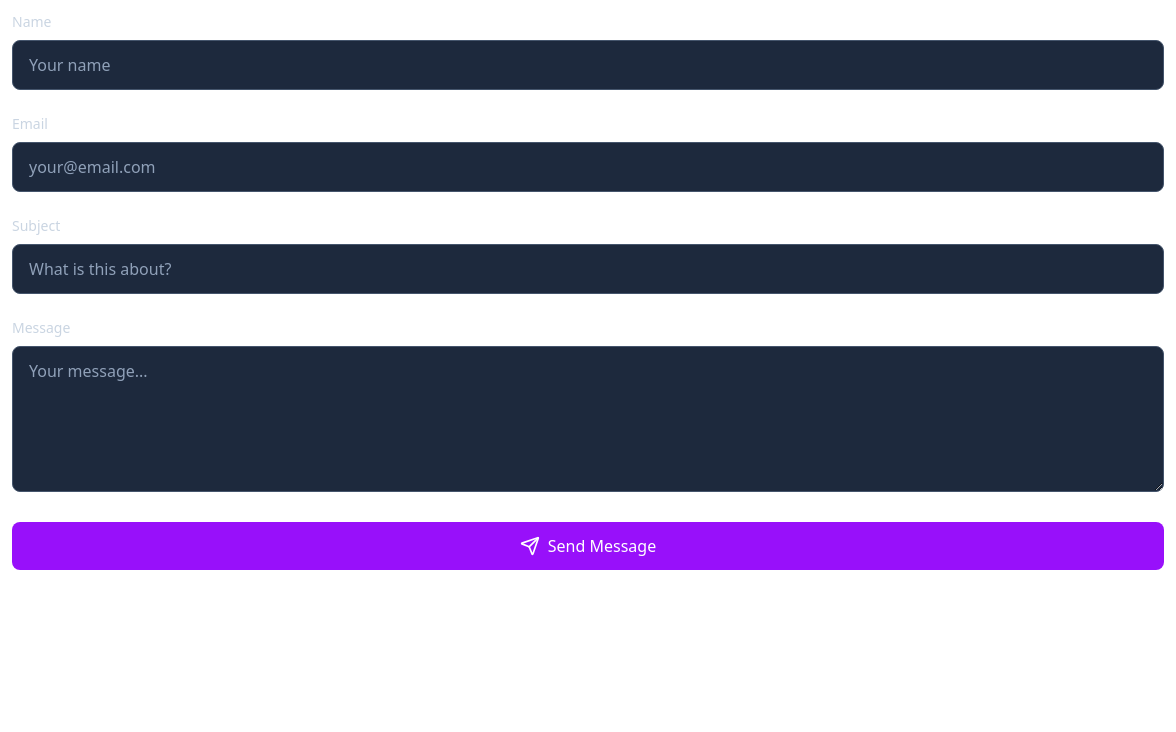
Test: ContactForm › submit handler › shows loading state when submitting
Fill form
Type "Test User" into the field named "name" at (588, 65), box top-left (12, 40), bottom-right (1164, 90)
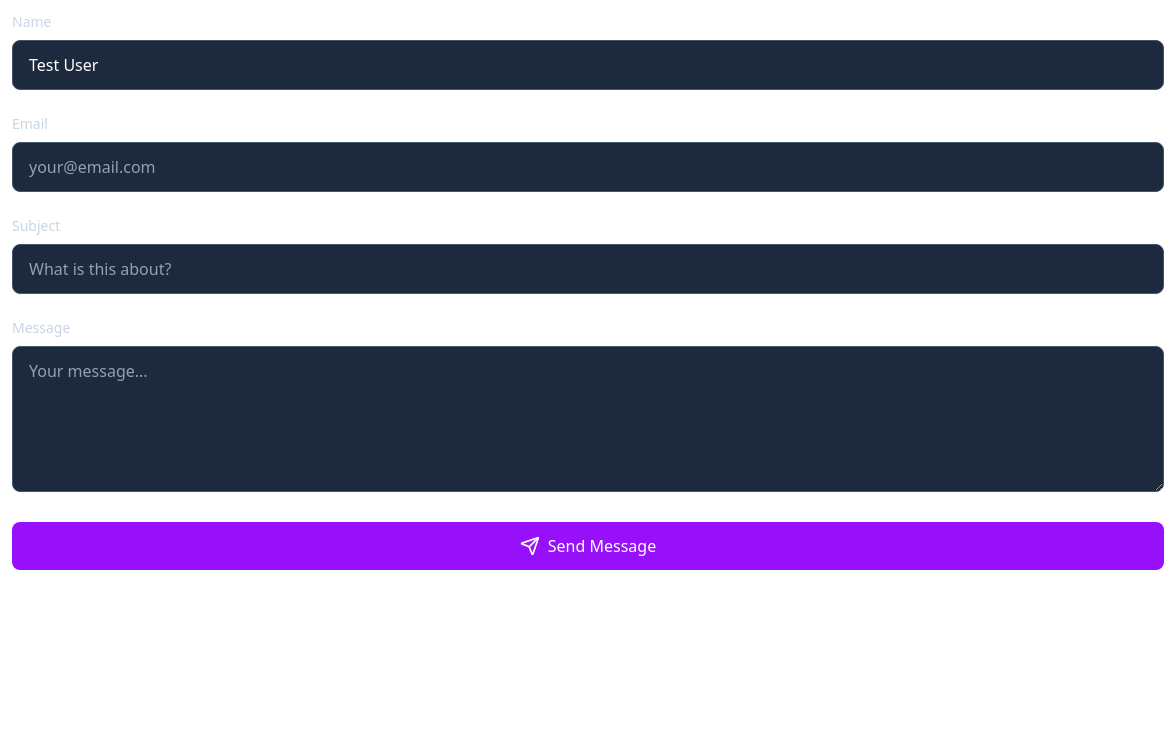
Type "test@example.com" into the field labelled "Email" at (588, 167), box top-left (12, 142), bottom-right (1164, 192)
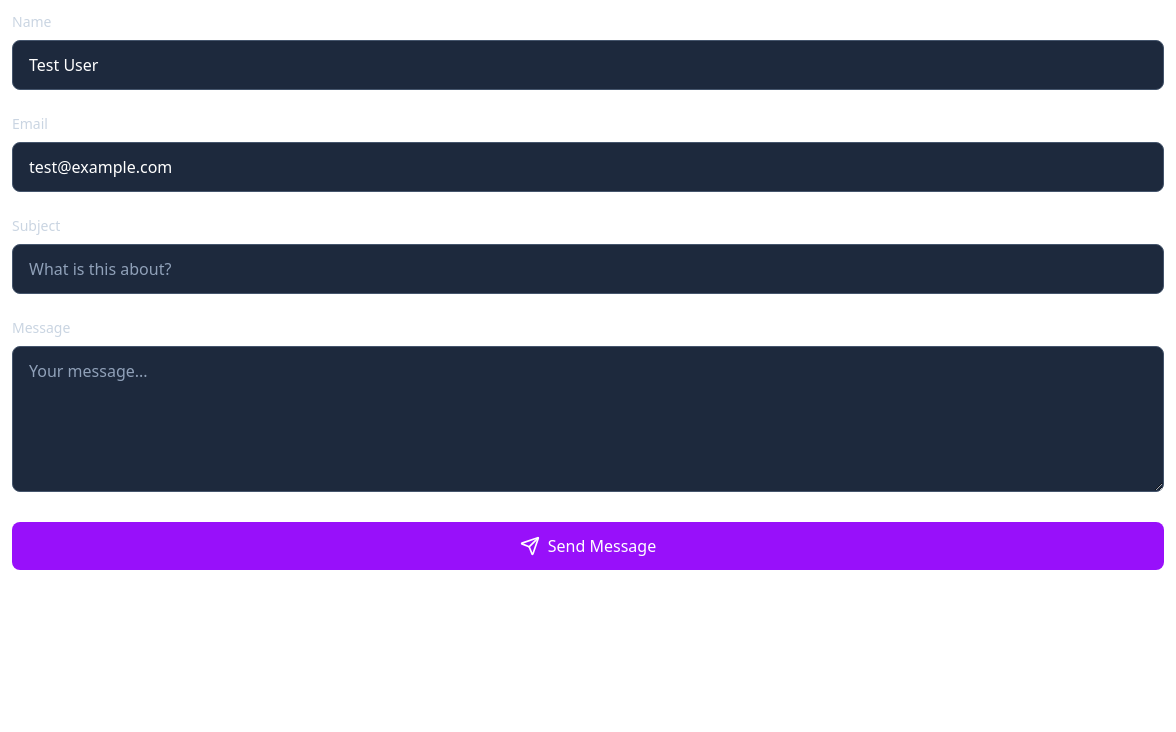
Type "Test Subject" into the field named "subject" at (588, 269), box top-left (12, 244), bottom-right (1164, 294)
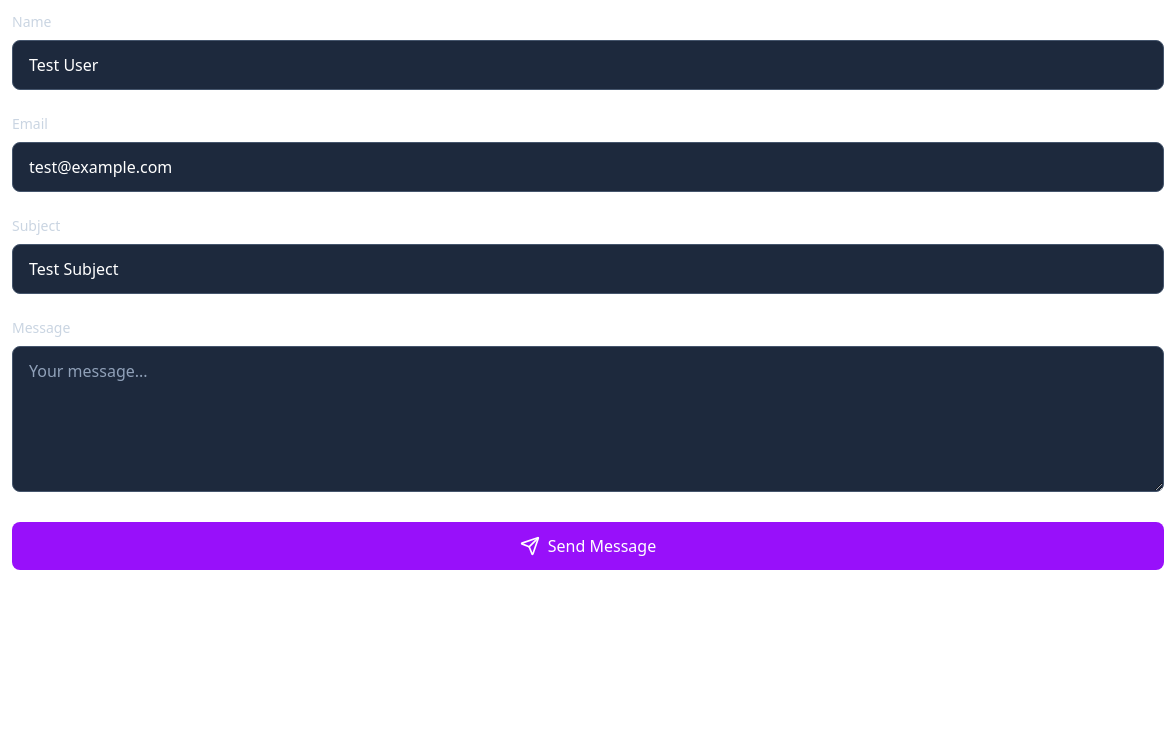
Type "Test message content" into the text box labelled "Message" at (588, 419), box top-left (12, 346), bottom-right (1164, 492)
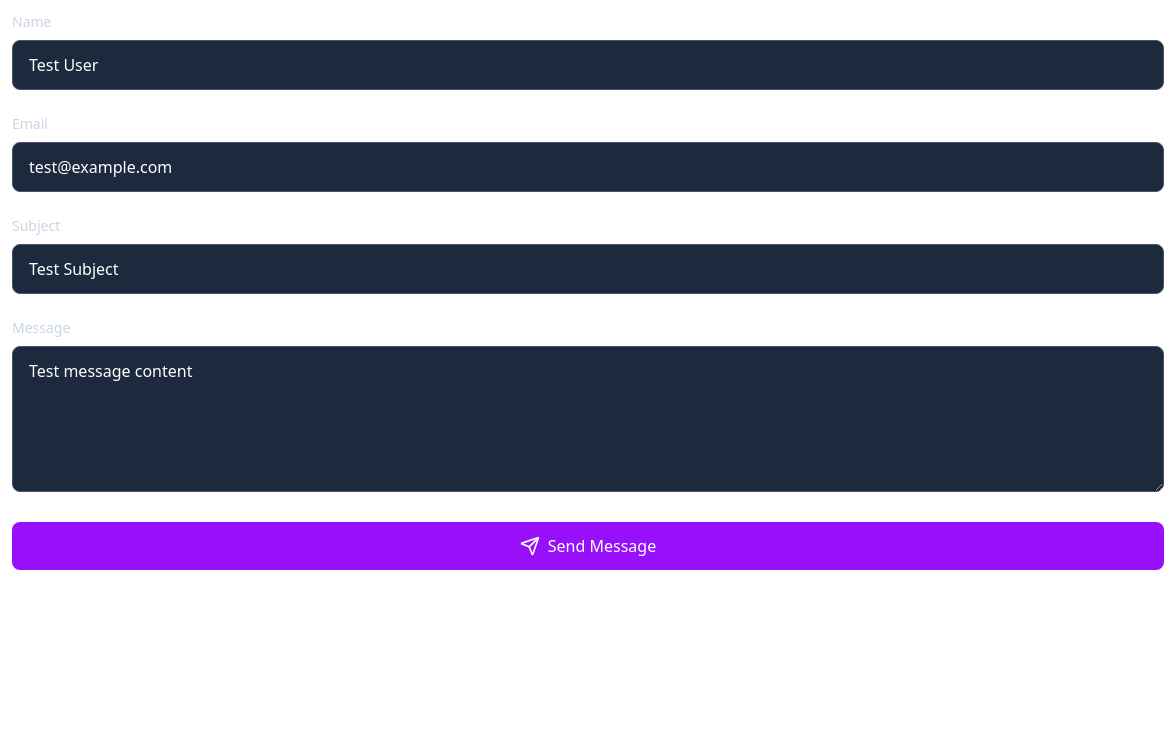
Submit the form
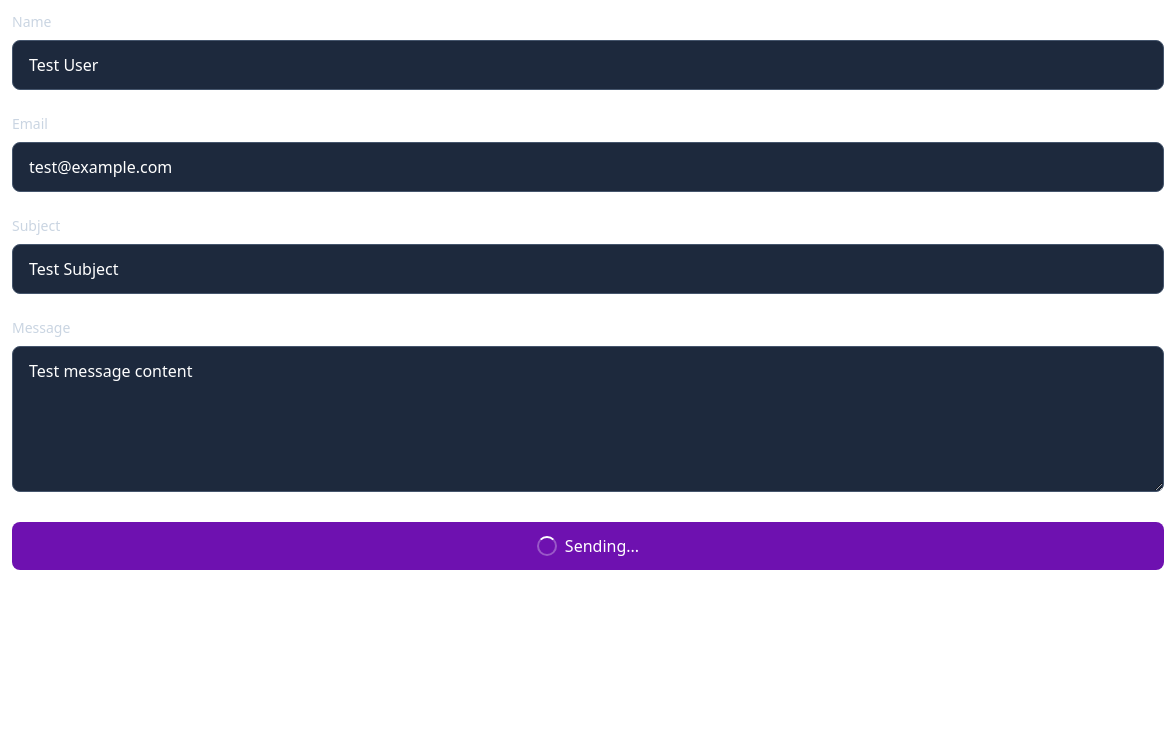
Expected: the text "Sending..." is shown, top-left (12, 522), bottom-right (1164, 570)
